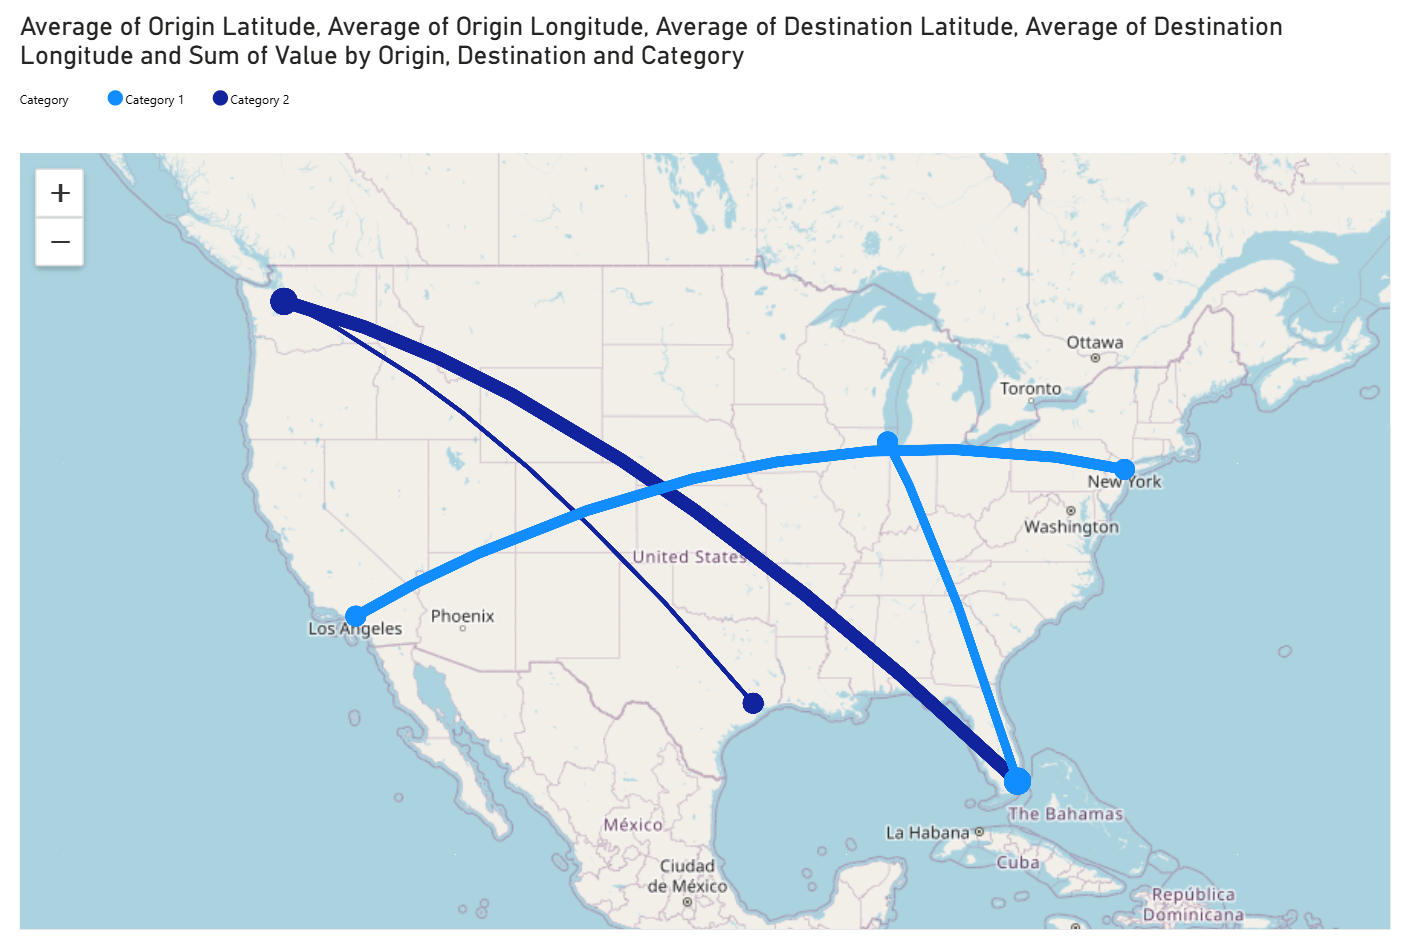

What the dashboard file says about the page in this screenshot:
{"tool":"powerbi","page":{"name":"Page 1","canvas":[1280,720],"ordinal":0},"visuals":[{"type":"routeMap","fields":{"destination":["Table.Destination"],"originLat":["Avg(Table.Destination Latitude)"],"originLng":["Avg(Table.Destination Longitude)"],"destLat":["Avg(Table.Origin Latitude)"],"destLng":["Avg(Table.Origin Longitude)"],"lineWidth":["Sum(Table.Value)"],"legend":["Table.Category"],"origin":["Table.Origin"]},"box":[225.8,17,734.9,526.8],"z":0}]}

Visuals, with their boxes on the page's 1280x720 design canvas (x1, y1, x2, y2). These are canvas units, not pixel positions in the 1416x946 screenshot, which may show the page scaled, cropped or inside an application window:
routeMap - Table.Destination x Avg(Table.Destination Latitude): box(226, 17, 961, 544)
